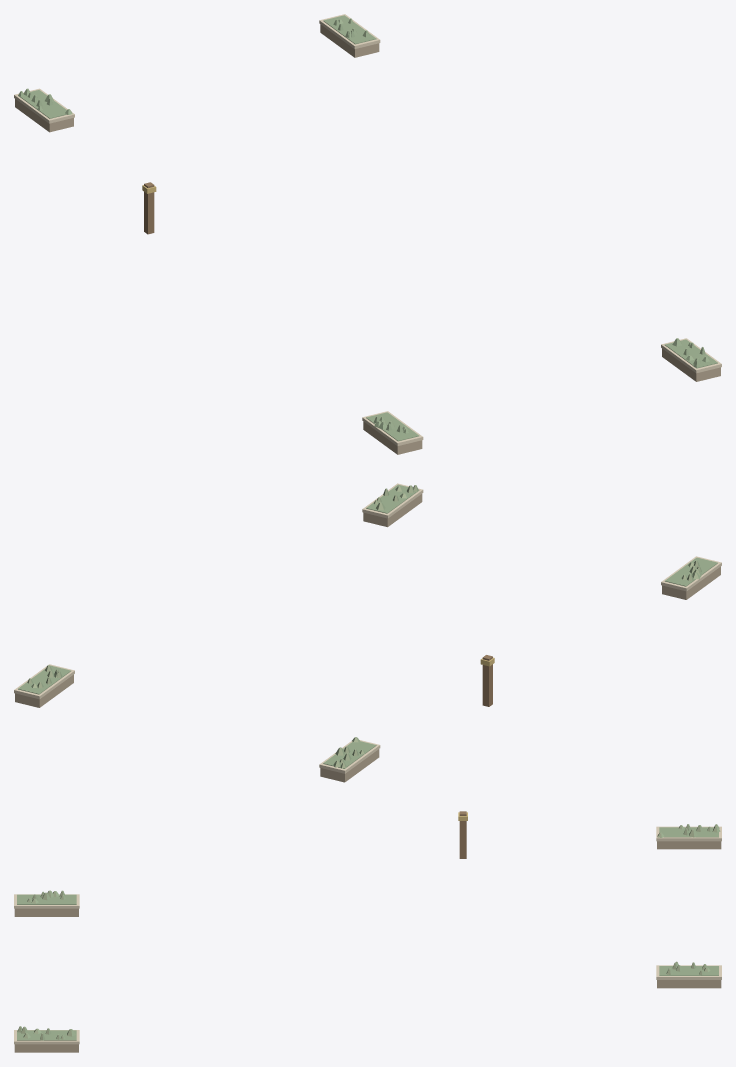
The model's file is ViaductJoinery.glb.
3 renders of one model, top to bottom at view 1: azimuth 30°, elevation 25°; view 2: azimuth 150°, elevation 25°; view 3: azimuth 270°, elevation 25°, orthographic. The views are drawn at different scales.
Parts seen in each view (by area): view 1: ViaductJoinery; view 2: ViaductJoinery; view 3: ViaductJoinery.
Boxes of the visible parts, x1,y1,x2,y2 form: ViaductJoinery: (14, 14, 721, 454); ViaductJoinery: (14, 483, 721, 782); ViaductJoinery: (14, 811, 721, 1052).
Size of the model in its own units: 10.22 by 2.77 by 19.84.
